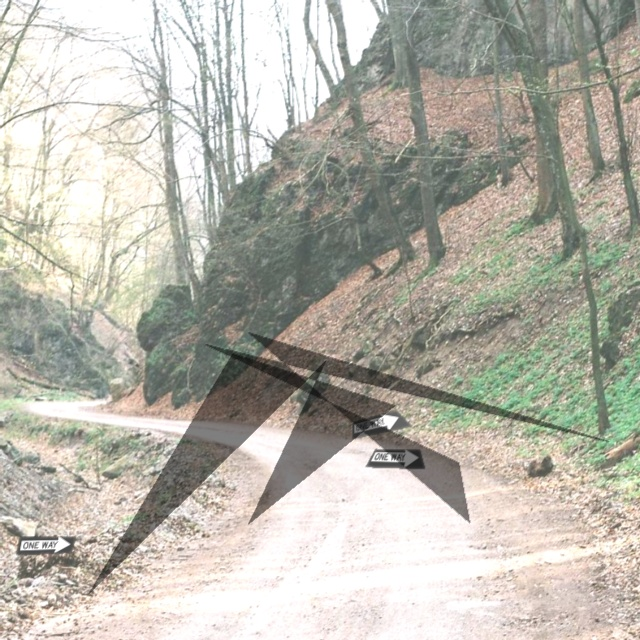ONE_WAY_ right: (351, 409, 412, 439), (364, 448, 425, 469), (15, 535, 76, 555)
